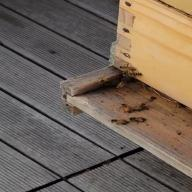Bee: (104, 118, 146, 126)
